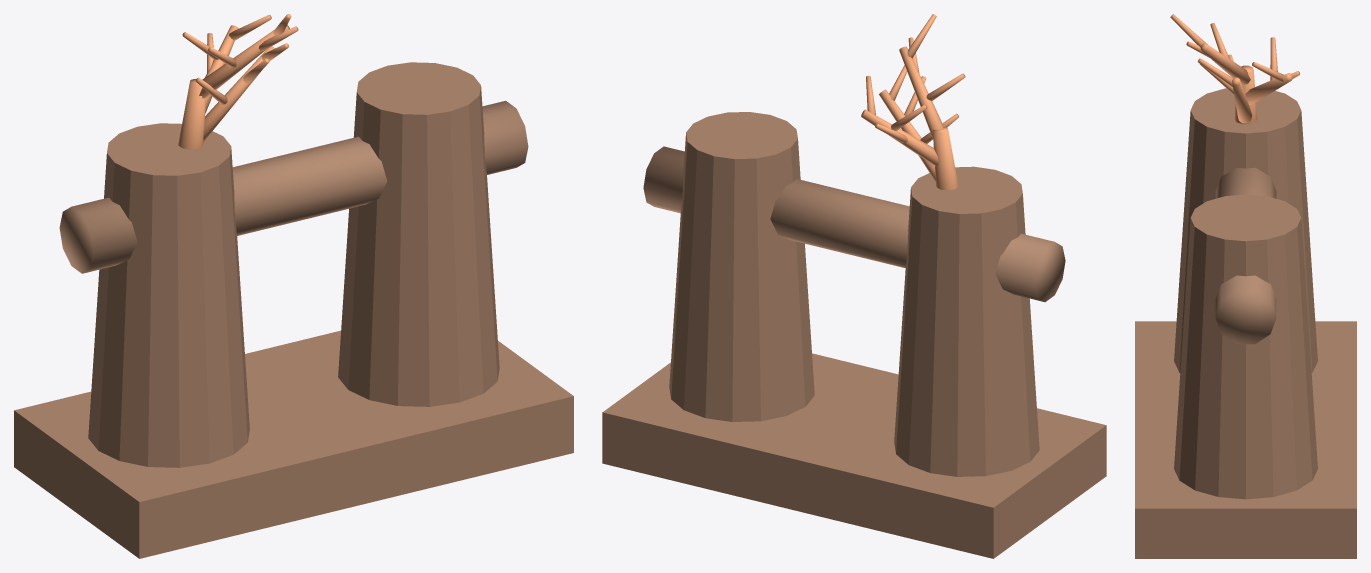
File: underwater-reef-worlds-encrusted-bollard-1100c395__7069.glb
3 renders of one model, left to right at view 1: azimuth 30°, elevation 25°; view 2: azimuth 150°, elevation 25°; view 3: azimuth 270°, elevation 25°, orthographic. The views are drawn at different scales.
Parts seen in each view (by area): view 1: encrusted-bollard; view 2: encrusted-bollard; view 3: encrusted-bollard.
Boxes of the visible parts, left/top/right/bottom form: encrusted-bollard: left=14, top=14, right=573, bottom=558; encrusted-bollard: left=602, top=14, right=1106, bottom=558; encrusted-bollard: left=1135, top=14, right=1356, bottom=558.
Bounding box in the file's own units: 0.8 × 0.8579 × 0.4001.
